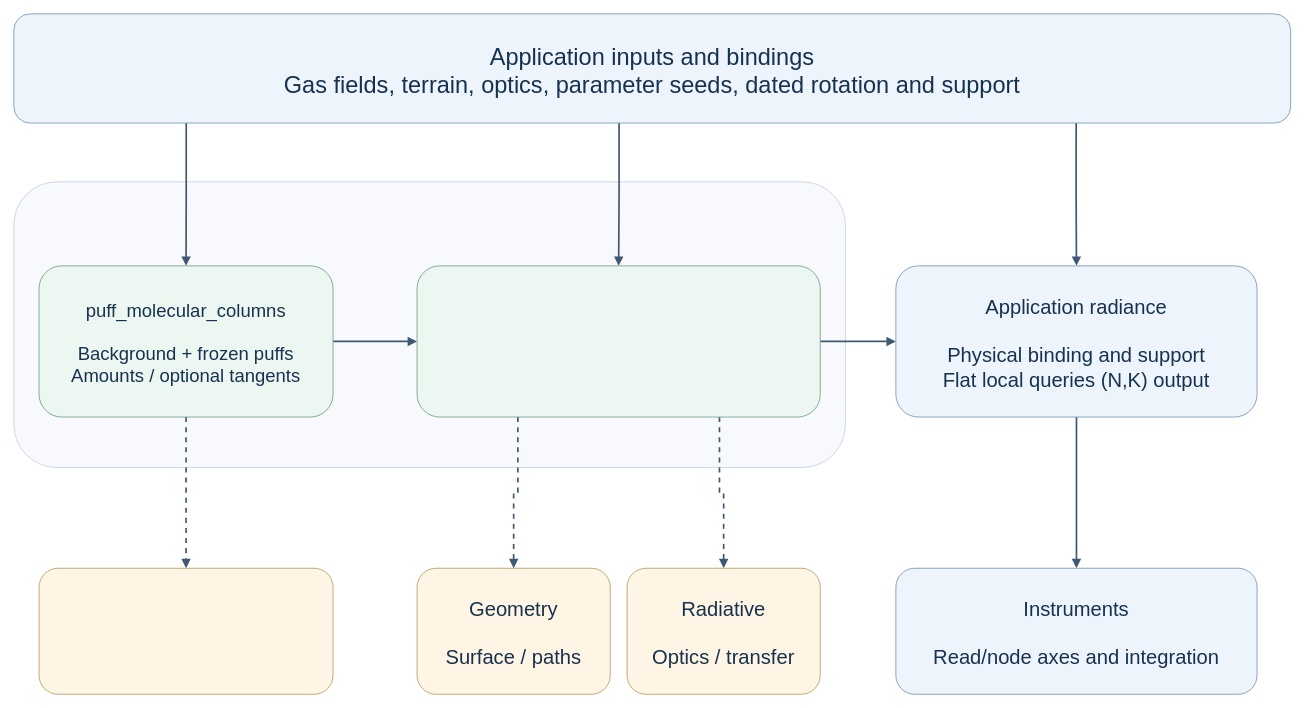
This 1305x708 diagram has some shape labels left out. Each missing label, with the box of its shape:
Dispersion Gaussian mass integrals: (38, 567, 333, 694)
Scene: (13, 181, 845, 467)
surface_radiance surface_radiance_tangent Terrain + column/path composition: (416, 265, 820, 417)
